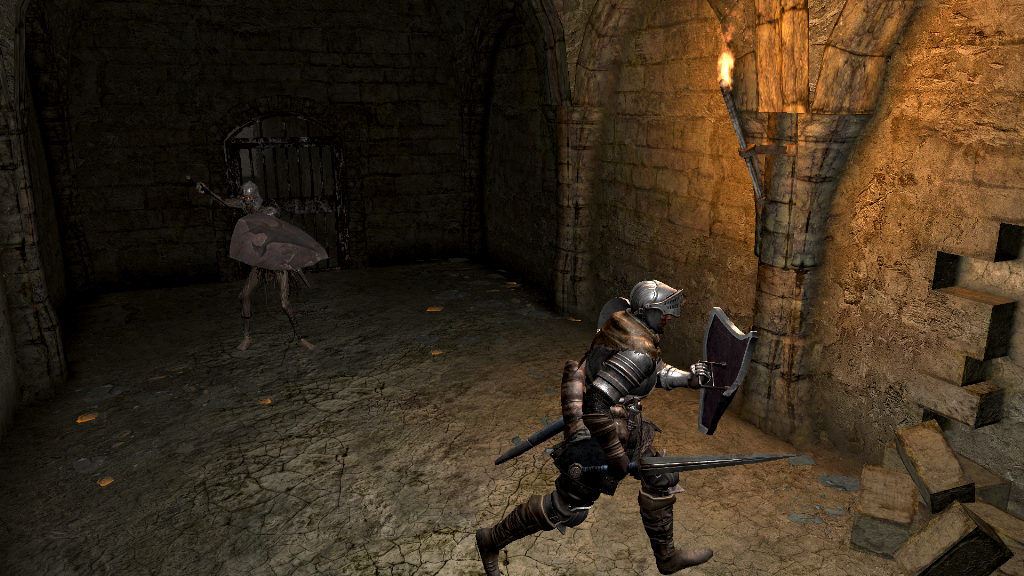player: (476, 279, 796, 576)
undeadSoldier: (195, 180, 317, 352)
